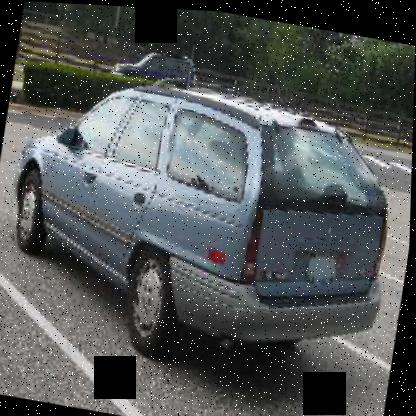not_emergency: (3, 38, 414, 386)
